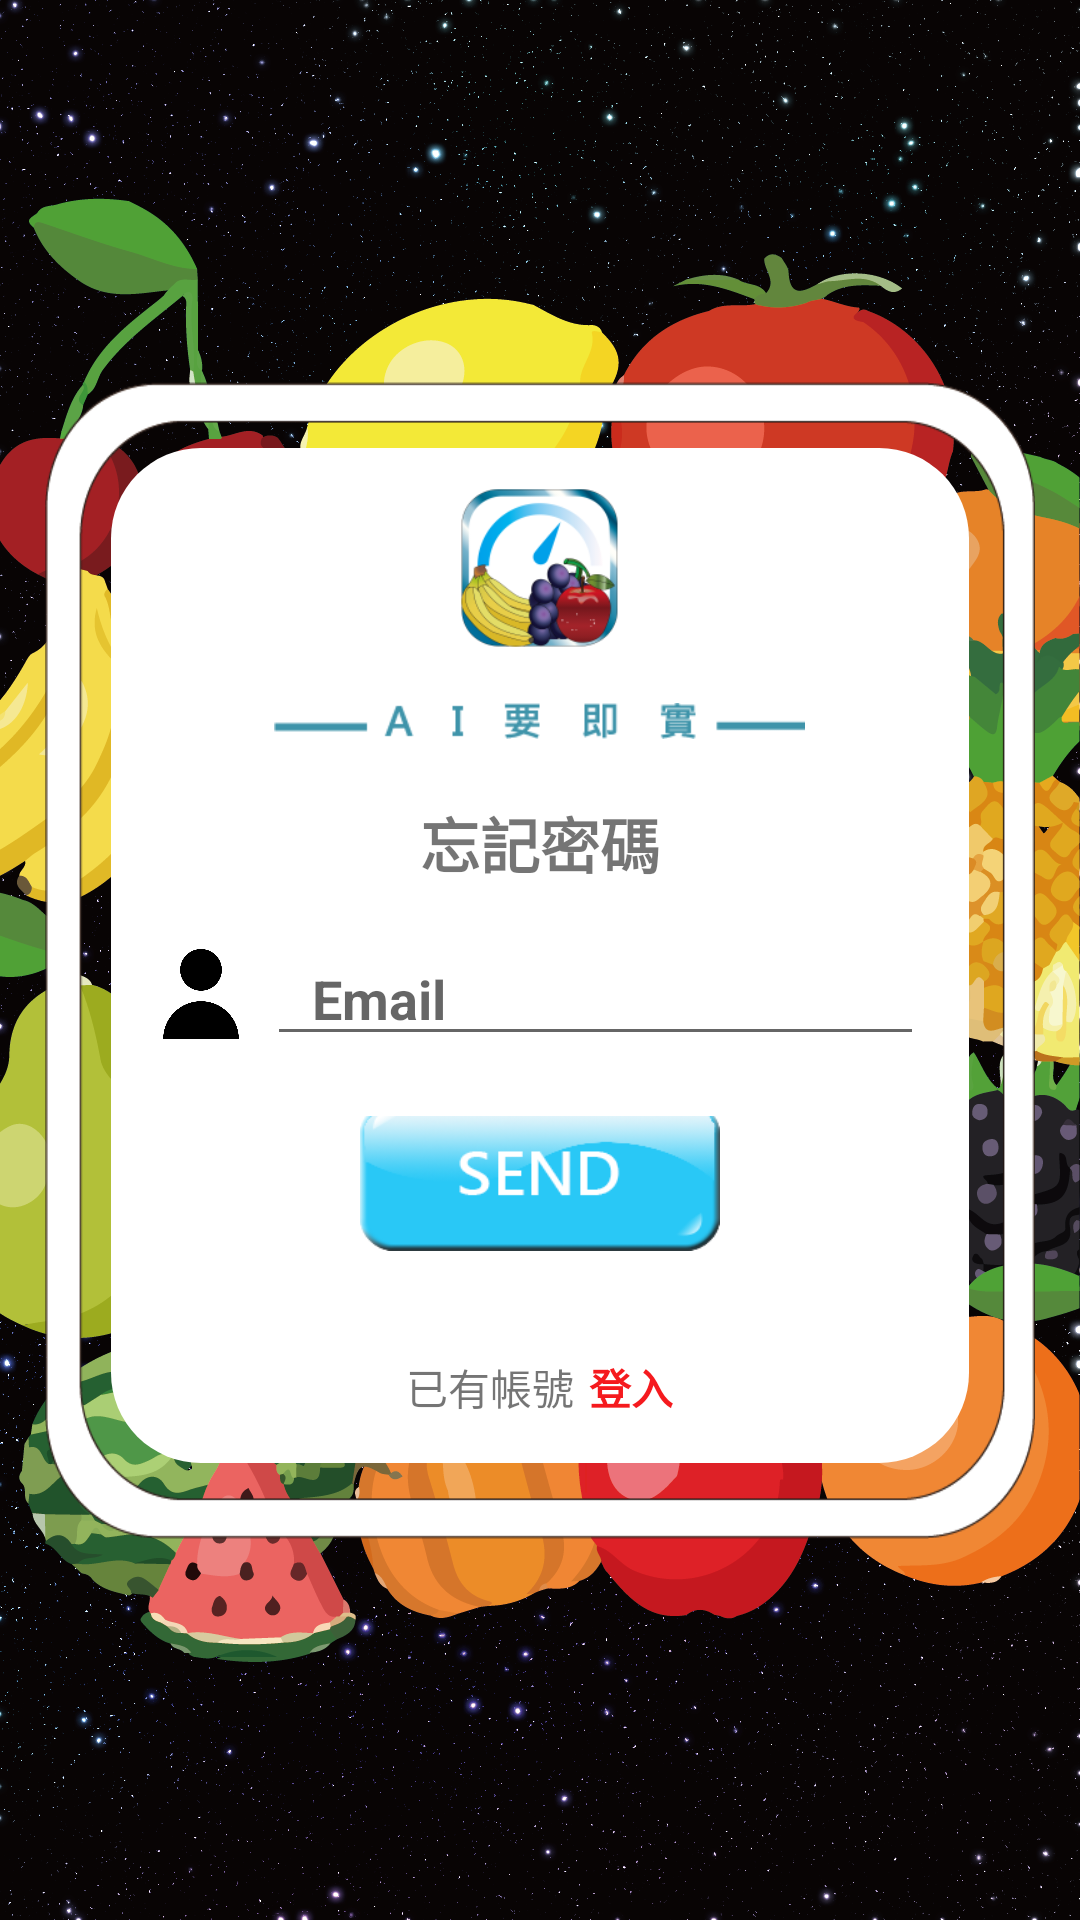

Where to tap for icons on this 1080px×1920px app screen, as point (x, y):
fruiticon: point (539, 568)
user: point (201, 994)
